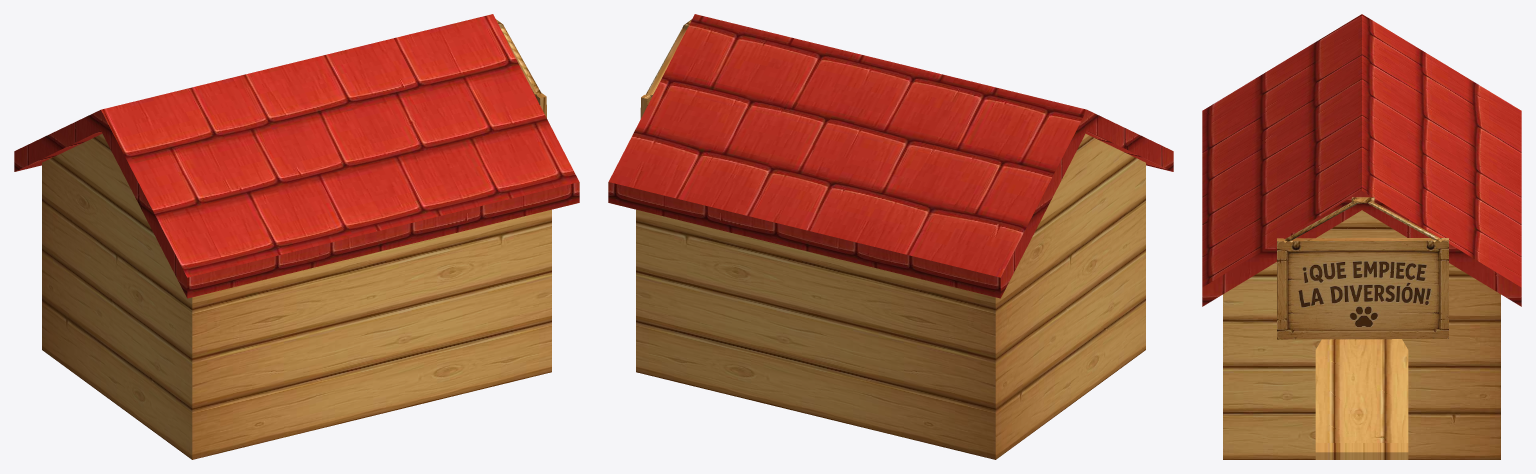
File: CUCHA.glb
The picture shows the model from 3 angles, left to right: view 1: azimuth 30°, elevation 25°; view 2: azimuth 150°, elevation 25°; view 3: azimuth 270°, elevation 25°; orthographic projection. The views are drawn at different scales.
Parts seen in each view (by area): view 1: PARED, TECHO, CARTEL; view 2: PARED, TECHO, CARTEL; view 3: TECHO, PARED, CARTEL.
Boxes of the visible parts, <box> form: PARED: <box>42,133,551,459</box>; TECHO: <box>14,14,579,298</box>; CARTEL: <box>496,19,546,117</box>; PARED: <box>636,133,1145,459</box>; TECHO: <box>608,14,1173,298</box>; CARTEL: <box>640,19,691,118</box>; TECHO: <box>1202,14,1521,306</box>; PARED: <box>1223,210,1500,459</box>; CARTEL: <box>1277,197,1448,339</box>.
Size of the model in its own units: 3.08 by 2.19 by 2.3.
Materials: 3 (3 with a texture image).
